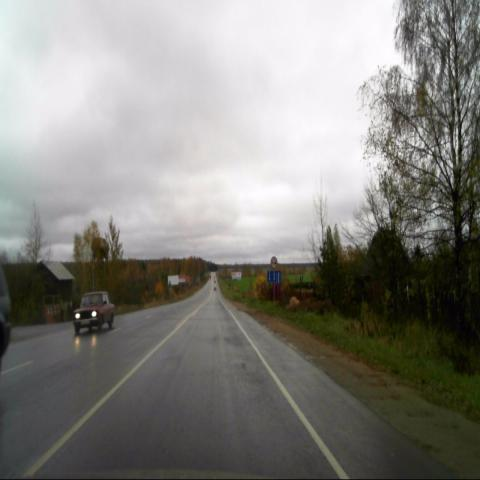3_20: (270, 255, 278, 269)
5_15_7: (266, 269, 282, 284)
